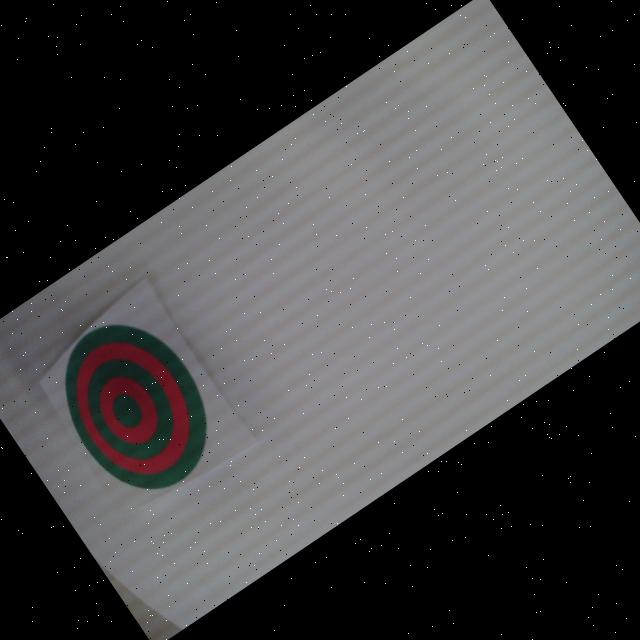COGNITIVE: (32, 298, 238, 517)
